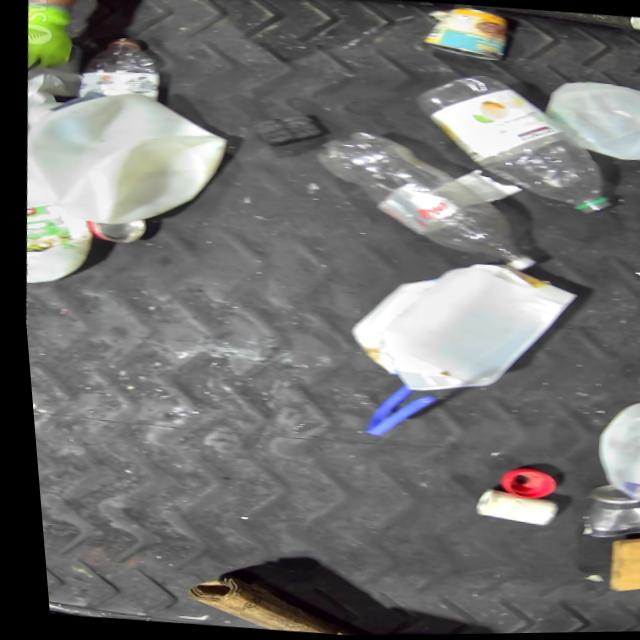can: (415, 2, 514, 68), (565, 481, 640, 546), (83, 216, 142, 246)
milk_jug: (333, 251, 581, 409), (13, 81, 239, 237), (12, 154, 96, 289), (533, 77, 640, 167), (579, 398, 640, 513)
plastic_bottle: (301, 122, 545, 276), (400, 65, 620, 221), (71, 32, 165, 99)
